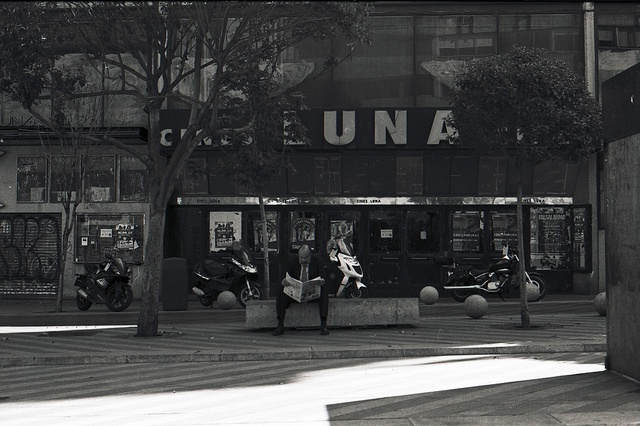non-vehicle: (440, 242, 547, 302), (188, 238, 262, 309), (74, 253, 144, 312), (314, 232, 369, 300)
